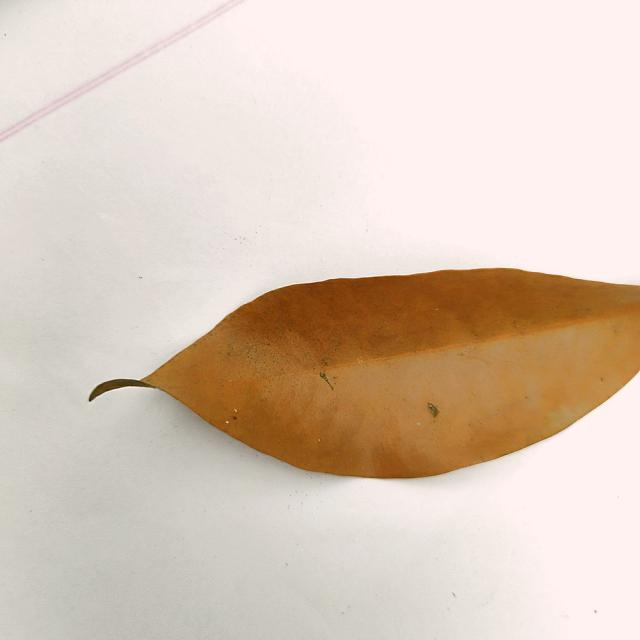Dry_Leaf-Lychee: (91, 269, 639, 482)
